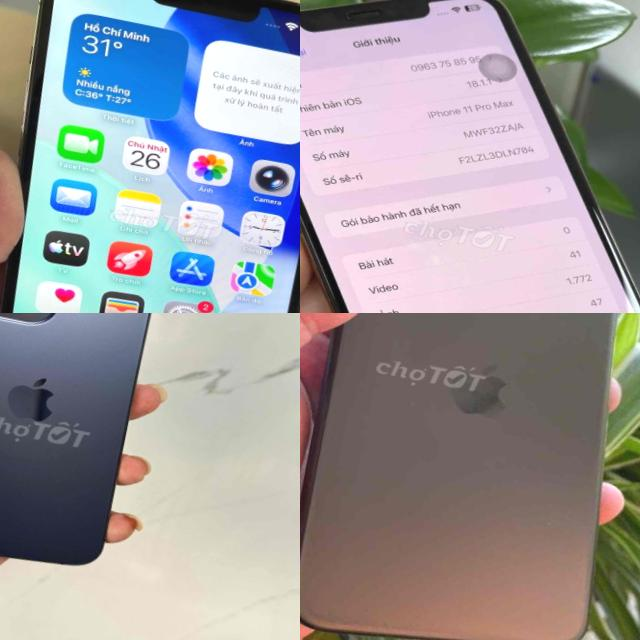gen_11: (300, 0, 640, 313), (300, 313, 615, 640)
gen_12_13: (0, 0, 300, 313)
gen_14: (0, 313, 184, 597)
